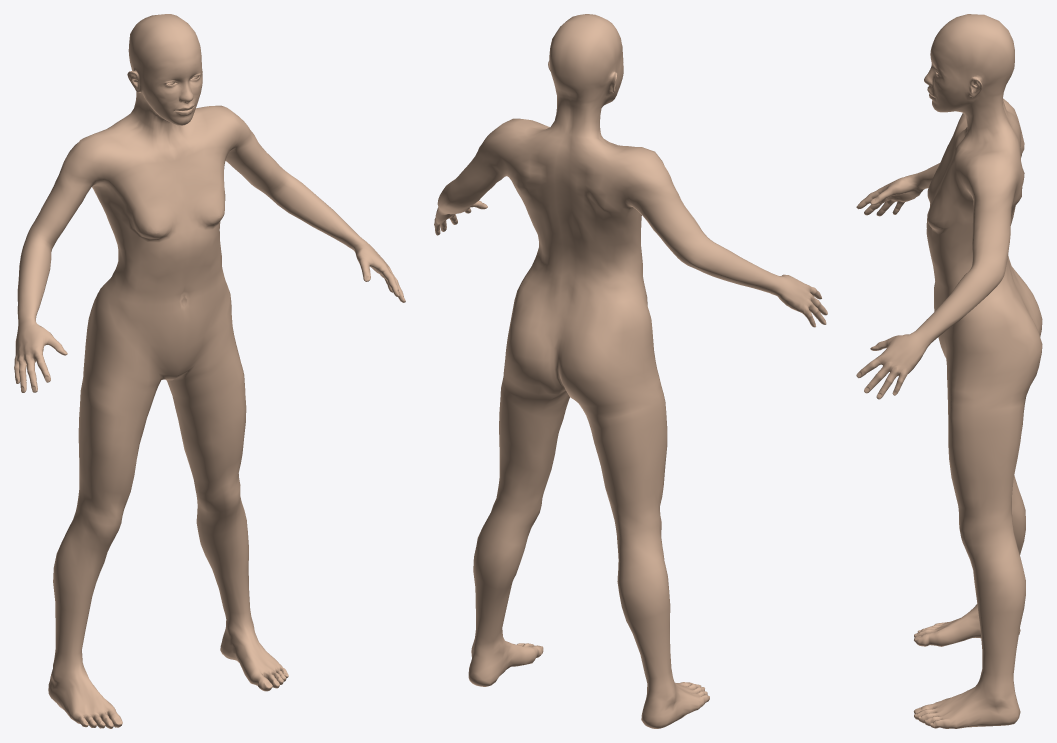
File: human.glb
3 renders of one model, left to right at view 1: azimuth 30°, elevation 25°; view 2: azimuth 150°, elevation 25°; view 3: azimuth 270°, elevation 25°, orthographic.
Parts seen in each view (by area): view 1: MakeHuman CC0 human; view 2: MakeHuman CC0 human; view 3: MakeHuman CC0 human.
Boxes of the visible parts, x1,y1,x2,y2 form: MakeHuman CC0 human: (14, 14, 405, 728); MakeHuman CC0 human: (434, 14, 827, 728); MakeHuman CC0 human: (856, 14, 1042, 728).
Bounding box in the file's own units: 1.19 × 2 × 0.5078.
